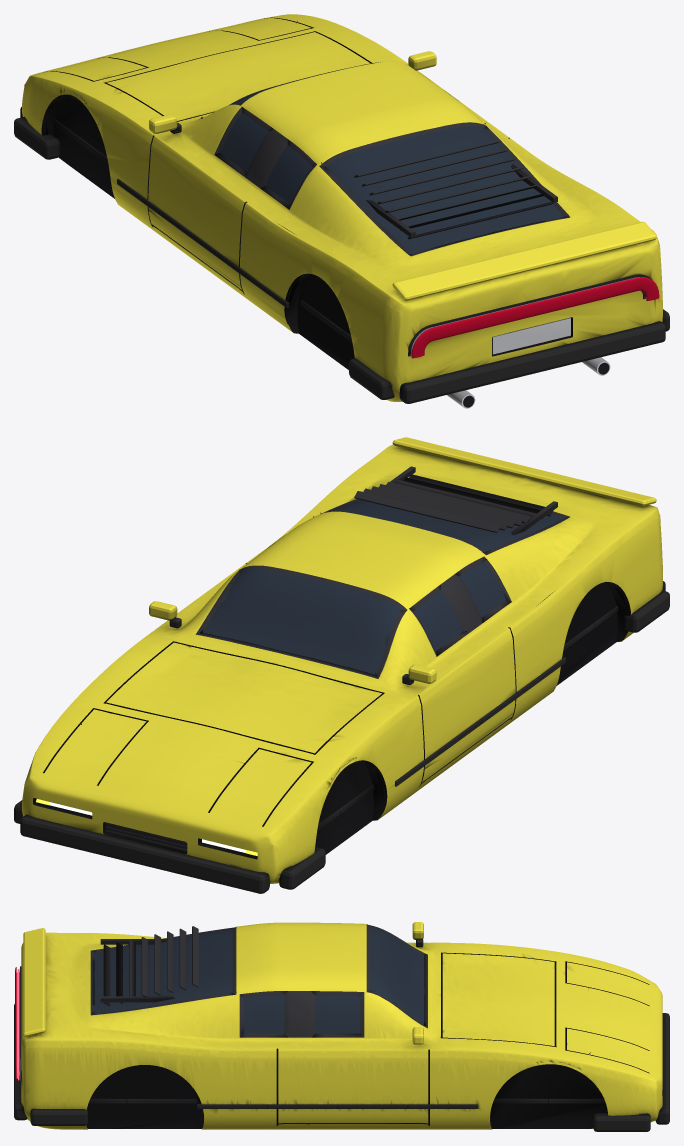
The model's file is wedge_lo.glb.
3 views of the same model, one above another, from view 1: azimuth 30°, elevation 25°; view 2: azimuth 150°, elevation 25°; view 3: azimuth 270°, elevation 25° (orthographic). The views are drawn at different scales.
Parts seen in each view (by area): view 1: body, glass_panes, part.011, part.047, tail_lens, part.014, part.009, part.012, tail_housing; view 2: body, glass_panes, part.008, part.047, part.021, part.009, part.012, cabin_skin, part.022, part.028, part.023, part.025 (+3 smaller); view 3: body, glass_panes, part.047, part.010, part.013, part.008, part.022, part.030, part.025, part.011, cabin_skin, part.028 (+12 smaller).
Part boxes in pixels (box(x1,y1,x2,y2)): body: box(22, 14, 662, 401); glass_panes: box(220, 62, 563, 253); part.011: box(399, 321, 665, 403); part.047: box(392, 221, 656, 300); tail_lens: box(411, 277, 659, 358); part.014: box(492, 317, 570, 354); part.009: box(14, 117, 60, 159); part.012: box(349, 358, 394, 399); tail_housing: box(408, 274, 651, 356); body: box(22, 445, 662, 883); glass_panes: box(203, 500, 563, 674); part.008: box(20, 814, 269, 893); part.047: box(392, 437, 656, 506); part.021: box(354, 491, 500, 532); part.009: box(279, 847, 325, 889); part.012: box(623, 590, 669, 632); cabin_skin: box(33, 512, 630, 859); part.022: box(363, 488, 507, 530); part.028: box(409, 474, 553, 516); part.023: box(371, 486, 515, 528); part.025: box(386, 481, 530, 522); body: box(21, 922, 662, 1129); glass_panes: box(94, 926, 424, 1033); part.047: box(23, 928, 45, 1036); part.010: box(593, 1113, 650, 1131); part.013: box(30, 1108, 87, 1125); part.008: box(655, 1013, 669, 1124); part.022: box(179, 928, 186, 990); part.030: box(100, 996, 175, 1002); part.025: box(141, 937, 148, 997); part.011: box(14, 1004, 27, 1120); cabin_skin: box(86, 953, 643, 1127); part.028: box(103, 944, 110, 1005).
Size of the model in its own units: 1.93 by 1.05 by 4.57.
